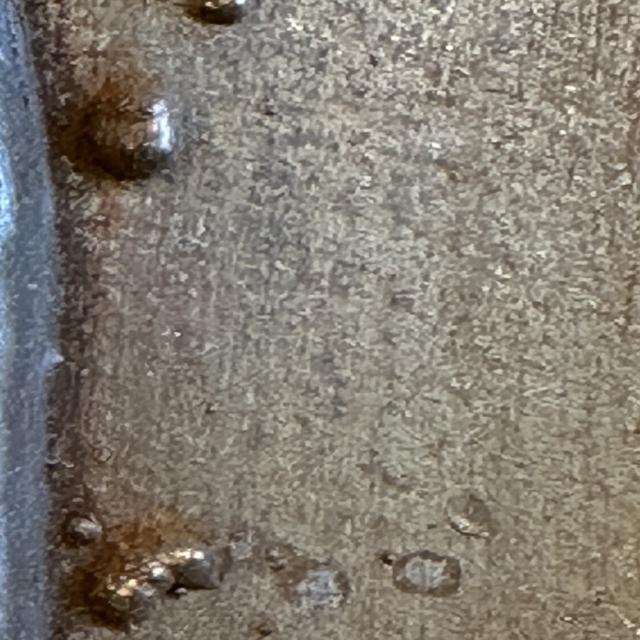Spatters: (83, 100, 175, 180), (88, 559, 177, 628), (140, 548, 228, 591), (183, 0, 245, 25), (63, 514, 102, 545)
